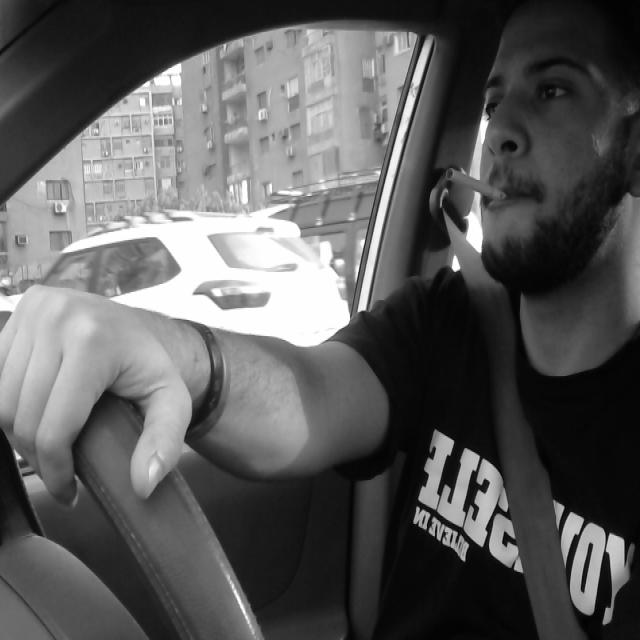smoking: (438, 164, 516, 216)
